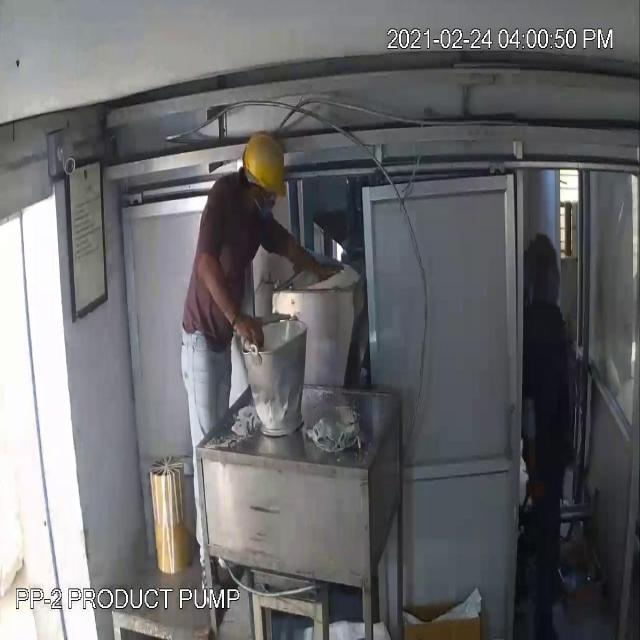helmet: (237, 120, 297, 203)
